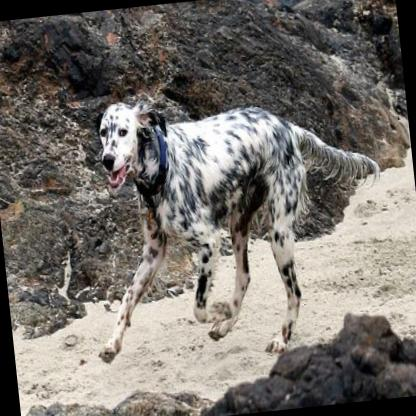English_setter: (69, 68, 398, 372)
